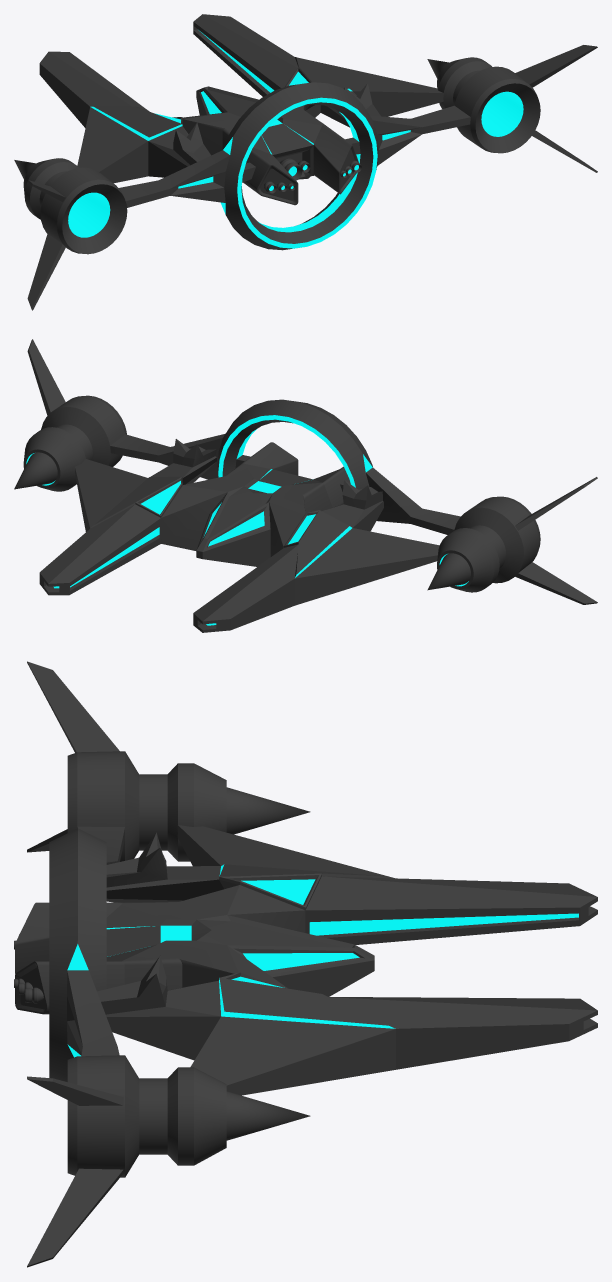
File: SpaceShip_2.fbx
The picture shows the model from 3 angles, top to bottom: view 1: azimuth 30°, elevation 25°; view 2: azimuth 150°, elevation 25°; view 3: azimuth 270°, elevation 25°; orthographic projection. The views are drawn at different scales.
Parts seen in each view (by area): view 1: Ship_V2; view 2: Ship_V2; view 3: Ship_V2.
Boxes of the visible parts, <box> form: Ship_V2: <box>14,14,597,310</box>; Ship_V2: <box>14,339,597,632</box>; Ship_V2: <box>14,661,597,1267</box>.
Bounding box in the file's own units: 4833 × 1335 × 2863.
